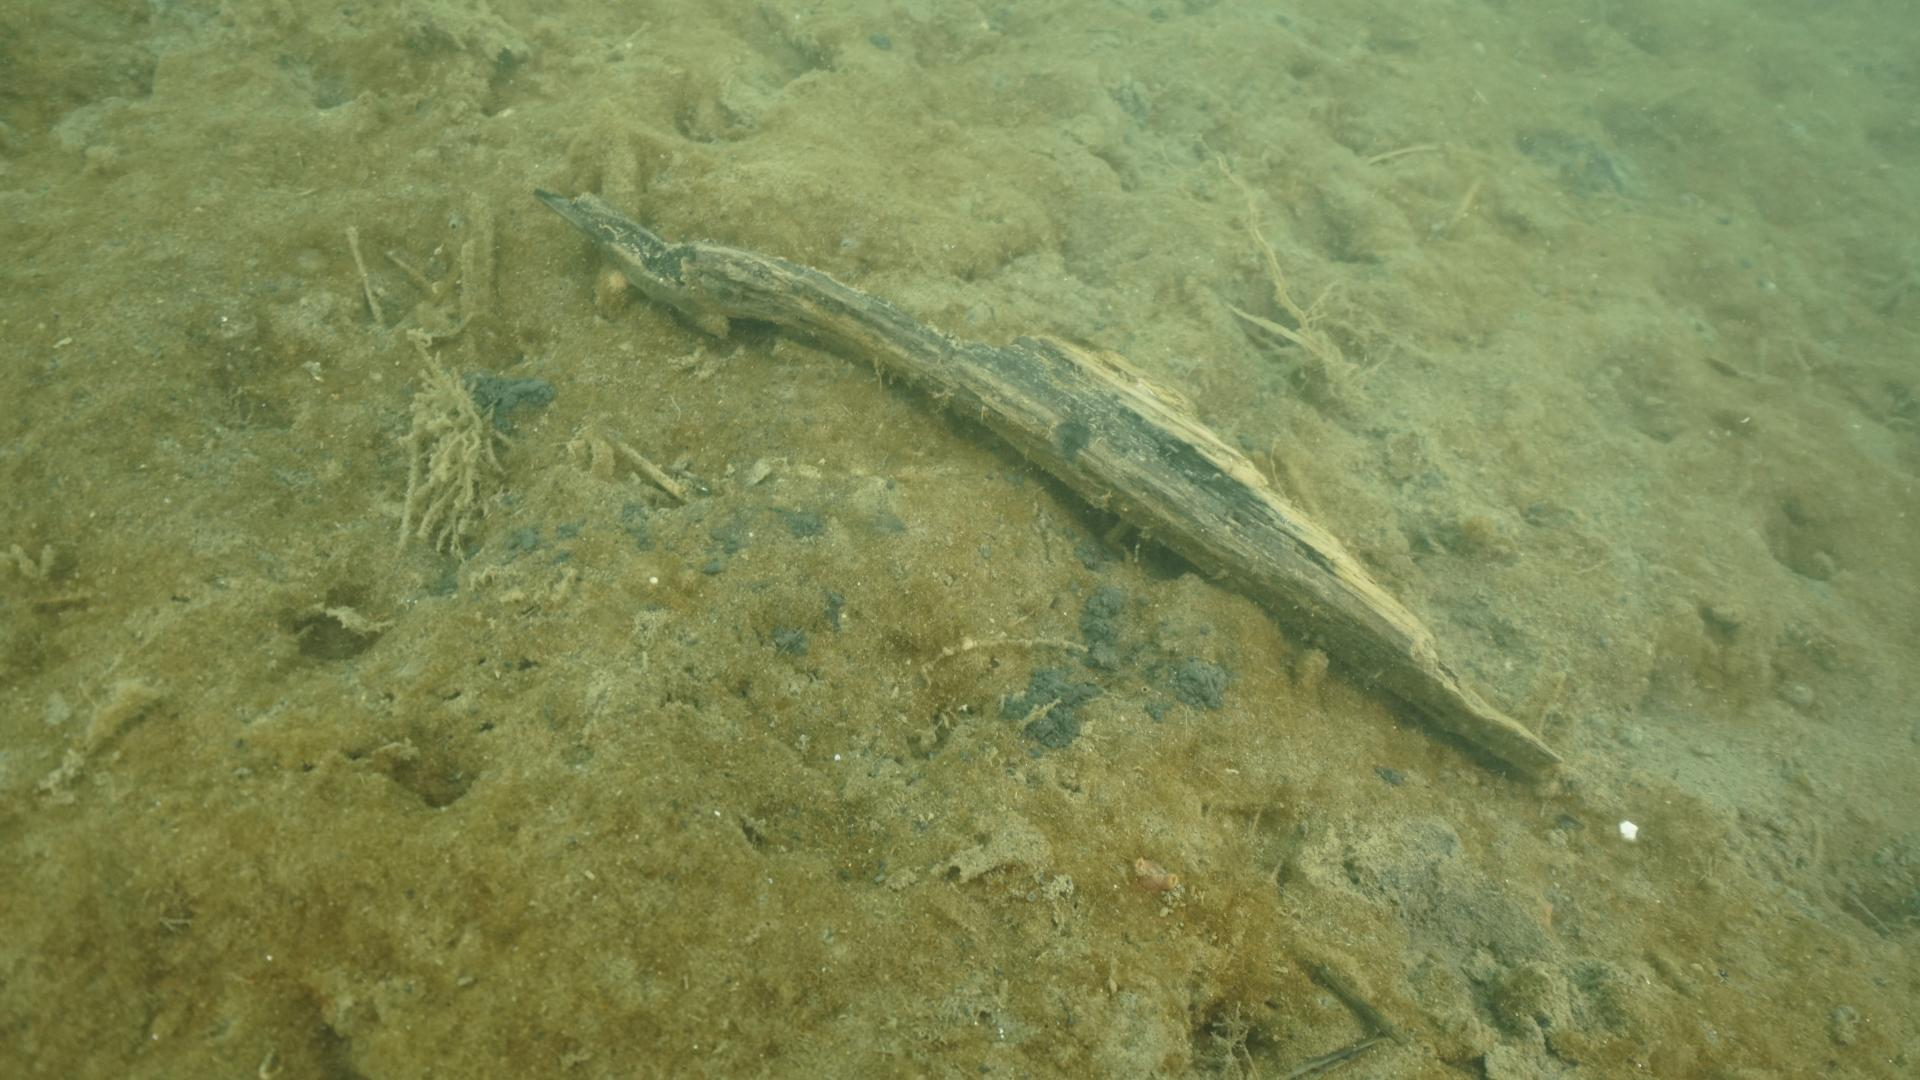wood: (541, 187, 1567, 785)
